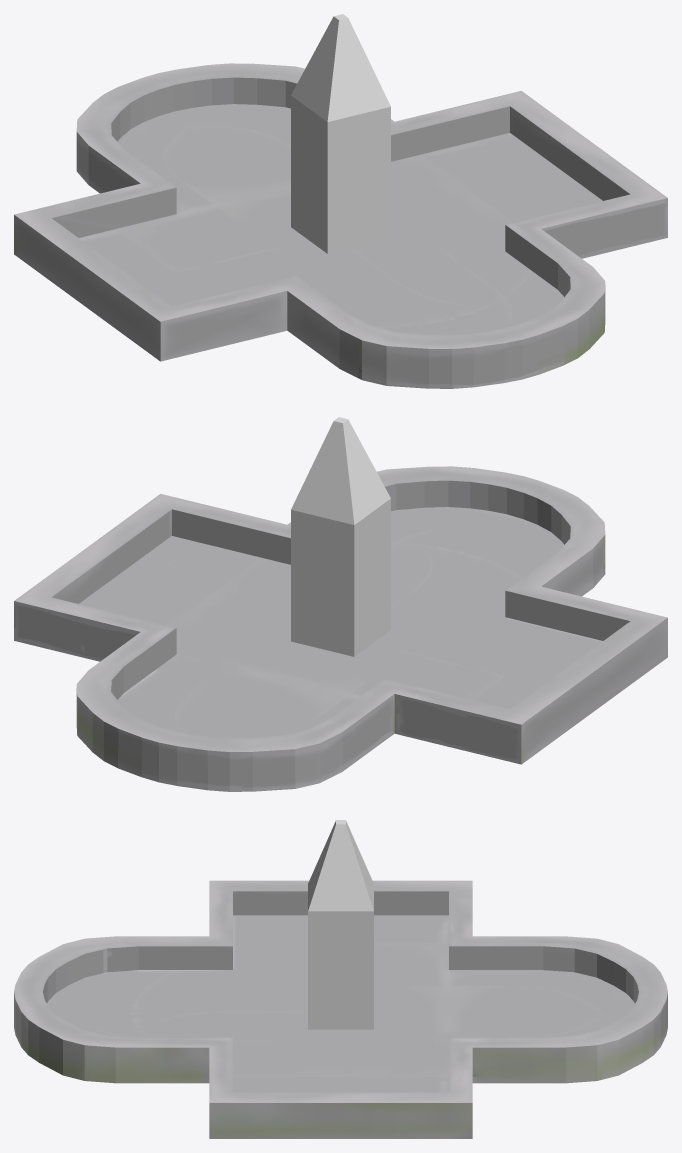
The model's file is fonte.fbx.
The picture shows the model from 3 angles, top to bottom: view 1: azimuth 30°, elevation 25°; view 2: azimuth 150°, elevation 25°; view 3: azimuth 270°, elevation 25°; orthographic projection. The views are drawn at different scales.
Visible parts, largest first — view 1: fonte, Cube.001; view 2: fonte, Cube.001; view 3: fonte, Cube.001.
Boxes of the visible parts, <box> form: fonte: <box>14,63,667,388</box>; Cube.001: <box>291,14,390,253</box>; fonte: <box>14,466,667,791</box>; Cube.001: <box>291,417,390,656</box>; fonte: <box>14,880,667,1138</box>; Cube.001: <box>308,820,373,1029</box>.
Size of the model in its own units: 400 by 172 by 497.
